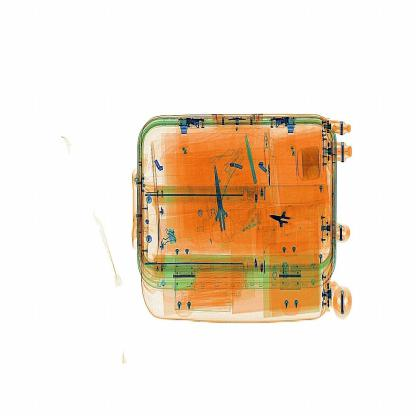gun: (205, 159, 241, 249)
